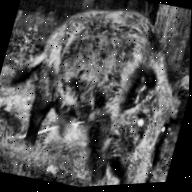boar: (1, 0, 192, 192)
